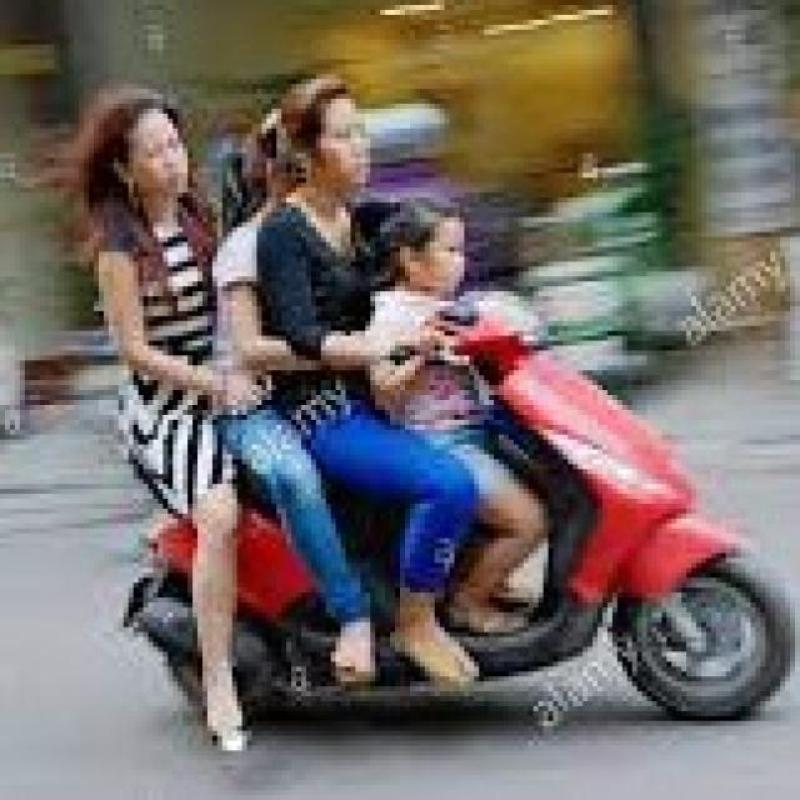nohelmet: (51, 61, 205, 262), (261, 57, 384, 194)
